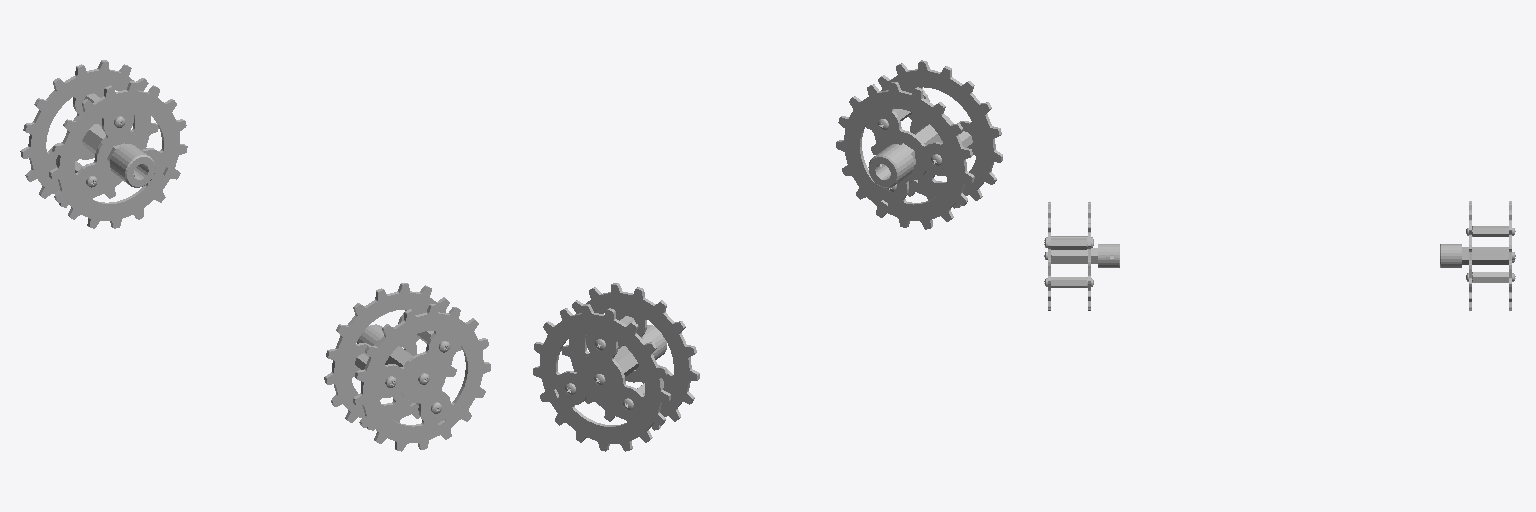
The robot description file, URDF, robot "robotF":
<?xml version="1.0" encoding="utf-8"?>
<!-- This URDF was automatically created by SolidWorks to URDF Exporter! Originally created by [author] ([email redacted]) 
     Commit Version: 1.5.1-0-g916b5db  Build Version: 1.5.7152.31018
     For more information, please see http://wiki.ros.org/sw_urdf_exporter -->
<robot
  name="robotF">
  <link
    name="base_link">
    <inertial>
      <origin
        xyz="-0.019165 -4.9915E-05 -0.069673"
        rpy="0 0 0" />
      <mass
        value="1.612" />
      <inertia
        ixx="0.00081644"
        ixy="4.489E-09"
        ixz="-8.1238E-06"
        iyy="0.0023138"
        iyz="-1.2828E-09"
        izz="0.0029163" />
    </inertial>
    <visual>
      <origin
        xyz="0 0 0"
        rpy="0 0 0" />
      <geometry>
        <mesh
          filename="package://robotF/meshes/base_link.STL" />
      </geometry>
      <material
        name="">
        <color
          rgba="0.64706 0.61961 0.58824 1" />
      </material>
    </visual>
    <collision>
      <origin
        xyz="0 0 0"
        rpy="0 0 0" />
      <geometry>
        <mesh
          filename="package://robotF/meshes/base_link.STL" />
      </geometry>
    </collision>
  </link>
  <link
    name="R_BCD">
    <inertial>
      <origin
        xyz="-1.4807E-06 -3.1788E-05 -0.003944"
        rpy="0 0 0" />
      <mass
        value="0.0194" />
      <inertia
        ixx="3.9446E-06"
        ixy="-2.7291E-09"
        ixz="-5.1243E-09"
        iyy="3.9498E-06"
        iyz="-1.6836E-09"
        izz="4.4119E-06" />
    </inertial>
    <visual>
      <origin
        xyz="0 0 0"
        rpy="0 0 0" />
      <geometry>
        <mesh
          filename="package://robotF/meshes/R_BCD.STL" />
      </geometry>
      <material
        name="">
        <color
          rgba="0.75294 0.75294 0.75294 1" />
      </material>
    </visual>
    <collision>
      <origin
        xyz="0 0 0"
        rpy="0 0 0" />
      <geometry>
        <mesh
          filename="package://robotF/meshes/R_BCD.STL" />
      </geometry>
    </collision>
  </link>
  <joint
    name="R_BCD_joint"
    type="continuous">
    <origin
      xyz="-0.10835 -0.103 -0.05996"
      rpy="1.5708 0 0" />
    <parent
      link="base_link" />
    <child
      link="R_BCD" />
    <axis
      xyz="0 0 1" />
    <limit
      effort="0"
      velocity="10" />
  </joint>
  <link
    name="L_BCD">
    <inertial>
      <origin
        xyz="2.5424E-05 1.1495E-06 0.003944"
        rpy="0 0 0" />
      <mass
        value="0.0194" />
      <inertia
        ixx="3.9491E-06"
        ixy="-3.2707E-09"
        ixz="-2.2853E-09"
        iyy="3.9453E-06"
        iyz="-4.8858E-09"
        izz="4.4119E-06" />
    </inertial>
    <visual>
      <origin
        xyz="0 0 0"
        rpy="0 0 0" />
      <geometry>
        <mesh
          filename="package://robotF/meshes/L_BCD.STL" />
      </geometry>
      <material
        name="">
        <color
          rgba="0.75294 0.75294 0.75294 1" />
      </material>
    </visual>
    <collision>
      <origin
        xyz="0 0 0"
        rpy="0 0 0" />
      <geometry>
        <mesh
          filename="package://robotF/meshes/L_BCD.STL" />
      </geometry>
    </collision>
  </link>
  <joint
    name="L_BCD_joint"
    type="continuous">
    <origin
      xyz="-0.10836 0.103 -0.059982"
      rpy="1.5708 0 0" />
    <parent
      link="base_link" />
    <child
      link="L_BCD" />
    <axis
      xyz="0 0 1" />
    <limit
      effort="0"
      velocity="10" />
  </joint>
  <link
    name="R_BBD1">
    <inertial>
      <origin
        xyz="7.2828E-07 2.3201E-07 3.5107E-07"
        rpy="0 0 0" />
      <mass
        value="0.018151" />
      <inertia
        ixx="1.4698E-06"
        ixy="-2.3366E-11"
        ixz="-3.6994E-11"
        iyy="1.4699E-06"
        iyz="-1.1775E-11"
        izz="2.7399E-06" />
    </inertial>
    <visual>
      <origin
        xyz="0 0 0"
        rpy="0 0 0" />
      <geometry>
        <mesh
          filename="package://robotF/meshes/R_BBD1.STL" />
      </geometry>
      <material
        name="">
        <color
          rgba="0.29804 0.29804 0.29804 1" />
      </material>
    </visual>
    <collision>
      <origin
        xyz="0 0 0"
        rpy="0 0 0" />
      <geometry>
        <mesh
          filename="package://robotF/meshes/R_BBD1.STL" />
      </geometry>
    </collision>
  </link>
  <joint
    name="R_BBD1_joint"
    type="continuous">
    <origin
      xyz="-0.074331 -0.103 -0.025"
      rpy="1.5708 0 0" />
    <parent
      link="base_link" />
    <child
      link="R_BBD1" />
    <axis
      xyz="0 0 1" />
    <limit
      effort="0"
      velocity="10" />
  </joint>
  <link
    name="R_BBD2">
    <inertial>
      <origin
        xyz="-7.5483E-07 1.2019E-07 3.5107E-07"
        rpy="0 0 0" />
      <mass
        value="0.018151" />
      <inertia
        ixx="1.4698E-06"
        ixy="1.2619E-11"
        ixz="3.8339E-11"
        iyy="1.4699E-06"
        iyz="-6.114E-12"
        izz="2.7399E-06" />
    </inertial>
    <visual>
      <origin
        xyz="0 0 0"
        rpy="0 0 0" />
      <geometry>
        <mesh
          filename="package://robotF/meshes/R_BBD2.STL" />
      </geometry>
      <material
        name="">
        <color
          rgba="0.29804 0.29804 0.29804 1" />
      </material>
    </visual>
    <collision>
      <origin
        xyz="0 0 0"
        rpy="0 0 0" />
      <geometry>
        <mesh
          filename="package://robotF/meshes/R_BBD2.STL" />
      </geometry>
    </collision>
  </link>
  <joint
    name="R_BBD2_joint"
    type="continuous">
    <origin
      xyz="-0.030331 -0.103 -0.077"
      rpy="1.5708 0 0" />
    <parent
      link="base_link" />
    <child
      link="R_BBD2" />
    <axis
      xyz="0 0 1" />
    <limit
      effort="0"
      velocity="10" />
  </joint>
  <link
    name="R_BBD3">
    <inertial>
      <origin
        xyz="7.4679E-07 1.6288E-07 3.5107E-07"
        rpy="0 0 0" />
      <mass
        value="0.018151" />
      <inertia
        ixx="1.4698E-06"
        ixy="-1.6803E-11"
        ixz="-3.7934E-11"
        iyy="1.4699E-06"
        iyz="-8.2638E-12"
        izz="2.7399E-06" />
    </inertial>
    <visual>
      <origin
        xyz="0 0 0"
        rpy="0 0 0" />
      <geometry>
        <mesh
          filename="package://robotF/meshes/R_BBD3.STL" />
      </geometry>
      <material
        name="">
        <color
          rgba="0.29804 0.29804 0.29804 1" />
      </material>
    </visual>
    <collision>
      <origin
        xyz="0 0 0"
        rpy="0 0 0" />
      <geometry>
        <mesh
          filename="package://robotF/meshes/R_BBD3.STL" />
      </geometry>
    </collision>
  </link>
  <joint
    name="R_BBD3_joint"
    type="continuous">
    <origin
      xyz="0.010169 -0.103 -0.025"
      rpy="1.5708 0 0" />
    <parent
      link="base_link" />
    <child
      link="R_BBD3" />
    <axis
      xyz="0 0 1" />
    <limit
      effort="0"
      velocity="10" />
  </joint>
  <link
    name="R_BBD4">
    <inertial>
      <origin
        xyz="6.5481E-07 3.9426E-07 3.5107E-07"
        rpy="0 0 0" />
      <mass
        value="0.018151" />
      <inertia
        ixx="1.4699E-06"
        ixy="-3.5742E-11"
        ixz="-3.3265E-11"
        iyy="1.4699E-06"
        iyz="-2.0018E-11"
        izz="2.7399E-06" />
    </inertial>
    <visual>
      <origin
        xyz="0 0 0"
        rpy="0 0 0" />
      <geometry>
        <mesh
          filename="package://robotF/meshes/R_BBD4.STL" />
      </geometry>
      <material
        name="">
        <color
          rgba="0.29804 0.29804 0.29804 1" />
      </material>
    </visual>
    <collision>
      <origin
        xyz="0 0 0"
        rpy="0 0 0" />
      <geometry>
        <mesh
          filename="package://robotF/meshes/R_BBD4.STL" />
      </geometry>
    </collision>
  </link>
  <joint
    name="R_BBD4_joint"
    type="continuous">
    <origin
      xyz="0.094669 -0.103 -0.025"
      rpy="1.5708 0 0" />
    <parent
      link="base_link" />
    <child
      link="R_BBD4" />
    <axis
      xyz="0 0 1" />
    <limit
      effort="0"
      velocity="10" />
  </joint>
  <link
    name="R_BBD5">
    <inertial>
      <origin
        xyz="7.5148E-07 1.3964E-07 3.5107E-07"
        rpy="0 0 0" />
      <mass
        value="0.018151" />
      <inertia
        ixx="1.4698E-06"
        ixy="-1.4488E-11"
        ixz="-3.8172E-11"
        iyy="1.4699E-06"
        iyz="-7.0833E-12"
        izz="2.7399E-06" />
    </inertial>
    <visual>
      <origin
        xyz="0 0 0"
        rpy="0 0 0" />
      <geometry>
        <mesh
          filename="package://robotF/meshes/R_BBD5.STL" />
      </geometry>
      <material
        name="">
        <color
          rgba="0.29804 0.29804 0.29804 1" />
      </material>
    </visual>
    <collision>
      <origin
        xyz="0 0 0"
        rpy="0 0 0" />
      <geometry>
        <mesh
          filename="package://robotF/meshes/R_BBD5.STL" />
      </geometry>
    </collision>
  </link>
  <joint
    name="R_BBD5_joint"
    type="continuous">
    <origin
      xyz="0.12967 -0.103 -0.062"
      rpy="1.5708 0 0" />
    <parent
      link="base_link" />
    <child
      link="R_BBD5" />
    <axis
      xyz="0 0 1" />
    <limit
      effort="0"
      velocity="10" />
  </joint>
  <link
    name="L_BBD1">
    <inertial>
      <origin
        xyz="-1.7175E-07 -7.4479E-07 -3.5107E-07"
        rpy="0 0 0" />
      <mass
        value="0.018151" />
      <inertia
        ixx="1.4699E-06"
        ixy="-1.7675E-11"
        ixz="-8.7146E-12"
        iyy="1.4698E-06"
        iyz="-3.7833E-11"
        izz="2.7399E-06" />
    </inertial>
    <visual>
      <origin
        xyz="0 0 0"
        rpy="0 0 0" />
      <geometry>
        <mesh
          filename="package://robotF/meshes/L_BBD1.STL" />
      </geometry>
      <material
        name="">
        <color
          rgba="0.29804 0.29804 0.29804 1" />
      </material>
    </visual>
    <collision>
      <origin
        xyz="0 0 0"
        rpy="0 0 0" />
      <geometry>
        <mesh
          filename="package://robotF/meshes/L_BBD1.STL" />
      </geometry>
    </collision>
  </link>
  <joint
    name="L_BBD1_joint"
    type="continuous">
    <origin
      xyz="-0.074331 0.103 -0.025"
      rpy="1.5708 0 0" />
    <parent
      link="base_link" />
    <child
      link="L_BBD1" />
    <axis
      xyz="0 0 1" />
    <limit
      effort="0"
      velocity="10" />
  </joint>
  <link
    name="L_BBD2">
    <inertial>
      <origin
        xyz="-7.6209E-07 5.8592E-08 -3.5107E-07"
        rpy="0 0 0" />
      <mass
        value="0.018151" />
      <inertia
        ixx="1.4698E-06"
        ixy="6.1336E-12"
        ixz="-3.871E-11"
        iyy="1.4699E-06"
        iyz="2.9666E-12"
        izz="2.7399E-06" />
    </inertial>
    <visual>
      <origin
        xyz="0 0 0"
        rpy="0 0 0" />
      <geometry>
        <mesh
          filename="package://robotF/meshes/L_BBD2.STL" />
      </geometry>
      <material
        name="">
        <color
          rgba="0.29804 0.29804 0.29804 1" />
      </material>
    </visual>
    <collision>
      <origin
        xyz="0 0 0"
        rpy="0 0 0" />
      <geometry>
        <mesh
          filename="package://robotF/meshes/L_BBD2.STL" />
      </geometry>
    </collision>
  </link>
  <joint
    name="L_BBD2_joint"
    type="continuous">
    <origin
      xyz="-0.030331 0.103 -0.077"
      rpy="1.5708 0 0" />
    <parent
      link="base_link" />
    <child
      link="L_BBD2" />
    <axis
      xyz="0 0 1" />
    <limit
      effort="0"
      velocity="10" />
  </joint>
  <link
    name="L_BBD3">
    <inertial>
      <origin
        xyz="-5.1491E-08 -7.626E-07 -3.5107E-07"
        rpy="0 0 0" />
      <mass
        value="0.018151" />
      <inertia
        ixx="1.4699E-06"
        ixy="-5.3874E-12"
        ixz="-2.6059E-12"
        iyy="1.4698E-06"
        iyz="-3.8736E-11"
        izz="2.7399E-06" />
    </inertial>
    <visual>
      <origin
        xyz="0 0 0"
        rpy="0 0 0" />
      <geometry>
        <mesh
          filename="package://robotF/meshes/L_BBD3.STL" />
      </geometry>
      <material
        name="">
        <color
          rgba="0.29804 0.29804 0.29804 1" />
      </material>
    </visual>
    <collision>
      <origin
        xyz="0 0 0"
        rpy="0 0 0" />
      <geometry>
        <mesh
          filename="package://robotF/meshes/L_BBD3.STL" />
      </geometry>
    </collision>
  </link>
  <joint
    name="L_BBD3_joint"
    type="continuous">
    <origin
      xyz="0.010169 0.103 -0.025"
      rpy="1.5708 0 0" />
    <parent
      link="base_link" />
    <child
      link="L_BBD3" />
    <axis
      xyz="0 0 1" />
    <limit
      effort="0"
      velocity="10" />
  </joint>
  <link
    name="L_BBD4">
    <inertial>
      <origin
        xyz="4.6032E-08 -7.6295E-07 -3.5107E-07"
        rpy="0 0 0" />
      <mass
        value="0.018151" />
      <inertia
        ixx="1.4699E-06"
        ixy="4.9186E-12"
        ixz="2.3476E-12"
        iyy="1.4698E-06"
        iyz="-3.8752E-11"
        izz="2.7399E-06" />
    </inertial>
    <visual>
      <origin
        xyz="0 0 0"
        rpy="0 0 0" />
      <geometry>
        <mesh
          filename="package://robotF/meshes/L_BBD4.STL" />
      </geometry>
      <material
        name="">
        <color
          rgba="0.29804 0.29804 0.29804 1" />
      </material>
    </visual>
    <collision>
      <origin
        xyz="0 0 0"
        rpy="0 0 0" />
      <geometry>
        <mesh
          filename="package://robotF/meshes/L_BBD4.STL" />
      </geometry>
    </collision>
  </link>
  <joint
    name="L_BBD4_joint"
    type="continuous">
    <origin
      xyz="0.094669 0.103 -0.025"
      rpy="1.5708 0 0" />
    <parent
      link="base_link" />
    <child
      link="L_BBD4" />
    <axis
      xyz="0 0 1" />
    <limit
      effort="0"
      velocity="10" />
  </joint>
  <link
    name="L_BBD5">
    <inertial>
      <origin
        xyz="1.1695E-07 -7.5534E-07 -3.5107E-07"
        rpy="0 0 0" />
      <mass
        value="0.018151" />
      <inertia
        ixx="1.4699E-06"
        ixy="1.2289E-11"
        ixz="5.9496E-12"
        iyy="1.4698E-06"
        iyz="-3.8365E-11"
        izz="2.7399E-06" />
    </inertial>
    <visual>
      <origin
        xyz="0 0 0"
        rpy="0 0 0" />
      <geometry>
        <mesh
          filename="package://robotF/meshes/L_BBD5.STL" />
      </geometry>
      <material
        name="">
        <color
          rgba="0.29804 0.29804 0.29804 1" />
      </material>
    </visual>
    <collision>
      <origin
        xyz="0 0 0"
        rpy="0 0 0" />
      <geometry>
        <mesh
          filename="package://robotF/meshes/L_BBD5.STL" />
      </geometry>
    </collision>
  </link>
  <joint
    name="L_BBD5_joint"
    type="continuous">
    <origin
      xyz="0.12967 0.103 -0.062"
      rpy="1.5708 0 0" />
    <parent
      link="base_link" />
    <child
      link="L_BBD5" />
    <axis
      xyz="0 0 1" />
    <limit
      effort="0"
      velocity="10" />
  </joint>
  <link
    name="Lidar">
    <inertial>
      <origin
        xyz="-0.019165 -4.9915E-05 -0.069673"
        rpy="0 0 0" />
      <mass
        value="0.2073" />
      <inertia
        ixx="0.00081644"
        ixy="4.489E-09"
        ixz="-8.1238E-06"
        iyy="0.0023138"
        iyz="-1.2828E-09"
        izz="0.0029163" />
    </inertial>
    <visual>
      <origin
        xyz="0 0 0"
        rpy="0 0 0" />
      <geometry>
        <mesh
          filename="package://robotF/meshes/Lidar.STL" />
      </geometry>
      <material
        name="">
        <color
          rgba="0.64706 0.61961 0.58824 1" />
      </material>
    </visual>
    <collision>
      <origin
        xyz="0 0 0"
        rpy="0 0 0" />
      <geometry>
        <mesh
          filename="package://robotF/meshes/Lidar.STL" />
      </geometry>
    </collision>
  </link>
  <joint
    name="Lidar_joint"
    type="fixed">
    <origin
      xyz="0.00060691 -0.00054999 -0.2025"
      rpy="0 0 0" />
    <parent
      link="base_link" />
    <child
      link="Lidar" />
    <axis
      xyz="0 0 0" />
  </joint>
</robot>

--- Facts derived from the render (not from the file) ---
Views: 3 orthographic renders of the robot side by side, from view 1: azimuth 30°, elevation 25°; view 2: azimuth 150°, elevation 25°; view 3: azimuth 270°, elevation 25°.
Model robotF with 14 links and 13 joints (12 continuous, 1 fixed), rooted at base_link, posed all joints at 0.
Visible links, largest first — view 1: R_BCD, L_BCD; view 2: L_BCD, R_BCD; view 3: L_BCD, R_BCD.
Link boxes in pixels (left/top/right/bottom): R_BCD: left=324, top=283, right=490, bottom=451; L_BCD: left=20, top=60, right=187, bottom=228; L_BCD: left=533, top=283, right=699, bottom=451; R_BCD: left=836, top=60, right=1002, bottom=229; L_BCD: left=1440, top=201, right=1515, bottom=310; R_BCD: left=1044, top=202, right=1119, bottom=310.
Bounding box of the posed robot: 0.0534 × 0.2301 × 0.0533 m (x, y, z).
Meshes: 14 distinct files referenced, 2 mesh visuals loaded (2 binary STL); not drawn: 12 (reference not matched to a file when rendering).